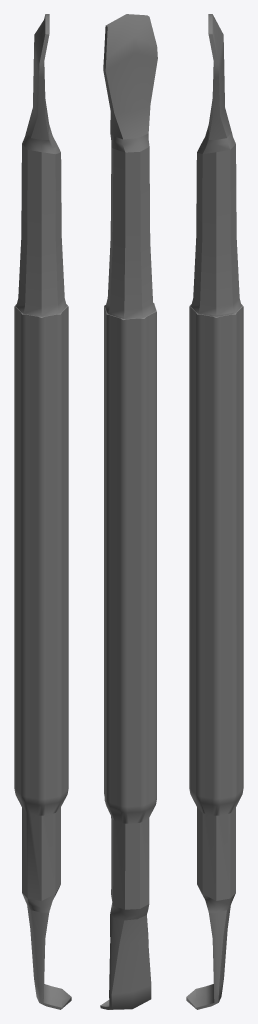
File: Molt_Model.fbx
3 views of the same model, side by side, from view 1: azimuth 90°, elevation 25°; view 2: azimuth 210°, elevation 25°; view 3: azimuth 270°, elevation 25° (orthographic).
Visible parts, largest first — view 1: molt1; view 2: molt1; view 3: molt1.
Part boxes in pixels (x1=…): molt1: x1=14, y1=14, x2=71, y2=1009; molt1: x1=100, y1=14, x2=157, y2=1009; molt1: x1=186, y1=14, x2=243, y2=1009.
Bounding box in the file's own units: 0.7044 × 12.83 × 0.6785.
